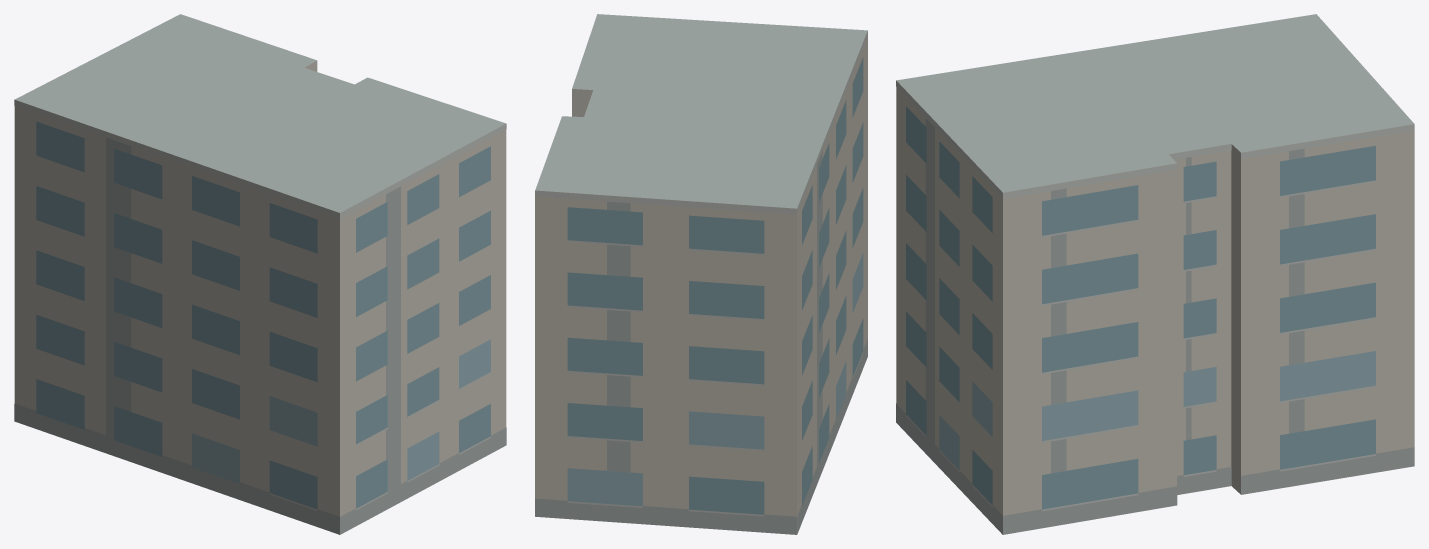
The model's file is survey-upis-33042945.glb.
The picture shows the model from 3 angles, left to right: view 1: azimuth 30°, elevation 25°; view 2: azimuth 150°, elevation 25°; view 3: azimuth 270°, elevation 25°; orthographic projection. The views are drawn at different scales.
Visible parts, largest first — view 1: survey-upis-33042945.tmp; view 2: survey-upis-33042945.tmp; view 3: survey-upis-33042945.tmp.
Part boxes in pixels (bbox=[...]): survey-upis-33042945.tmp: bbox=[14, 14, 506, 534]; survey-upis-33042945.tmp: bbox=[535, 14, 867, 534]; survey-upis-33042945.tmp: bbox=[896, 14, 1414, 534].
Size of the model in its own units: 14.68 by 13.1 by 18.
